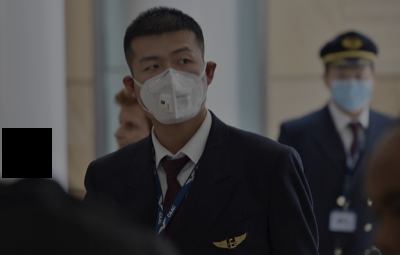with_mask: (132, 44, 208, 123), (330, 67, 375, 114)
